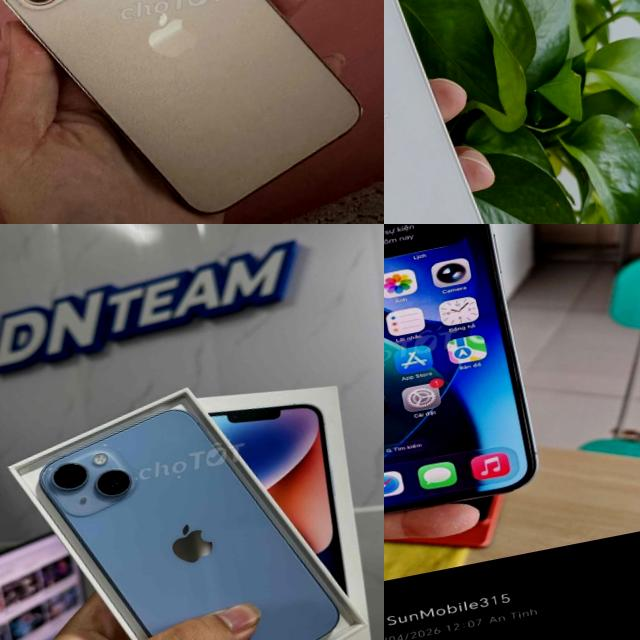gen_12_13: (0, 0, 382, 224)
gen_14: (26, 384, 350, 640), (384, 224, 553, 539)
gen_16: (384, 0, 483, 224)
